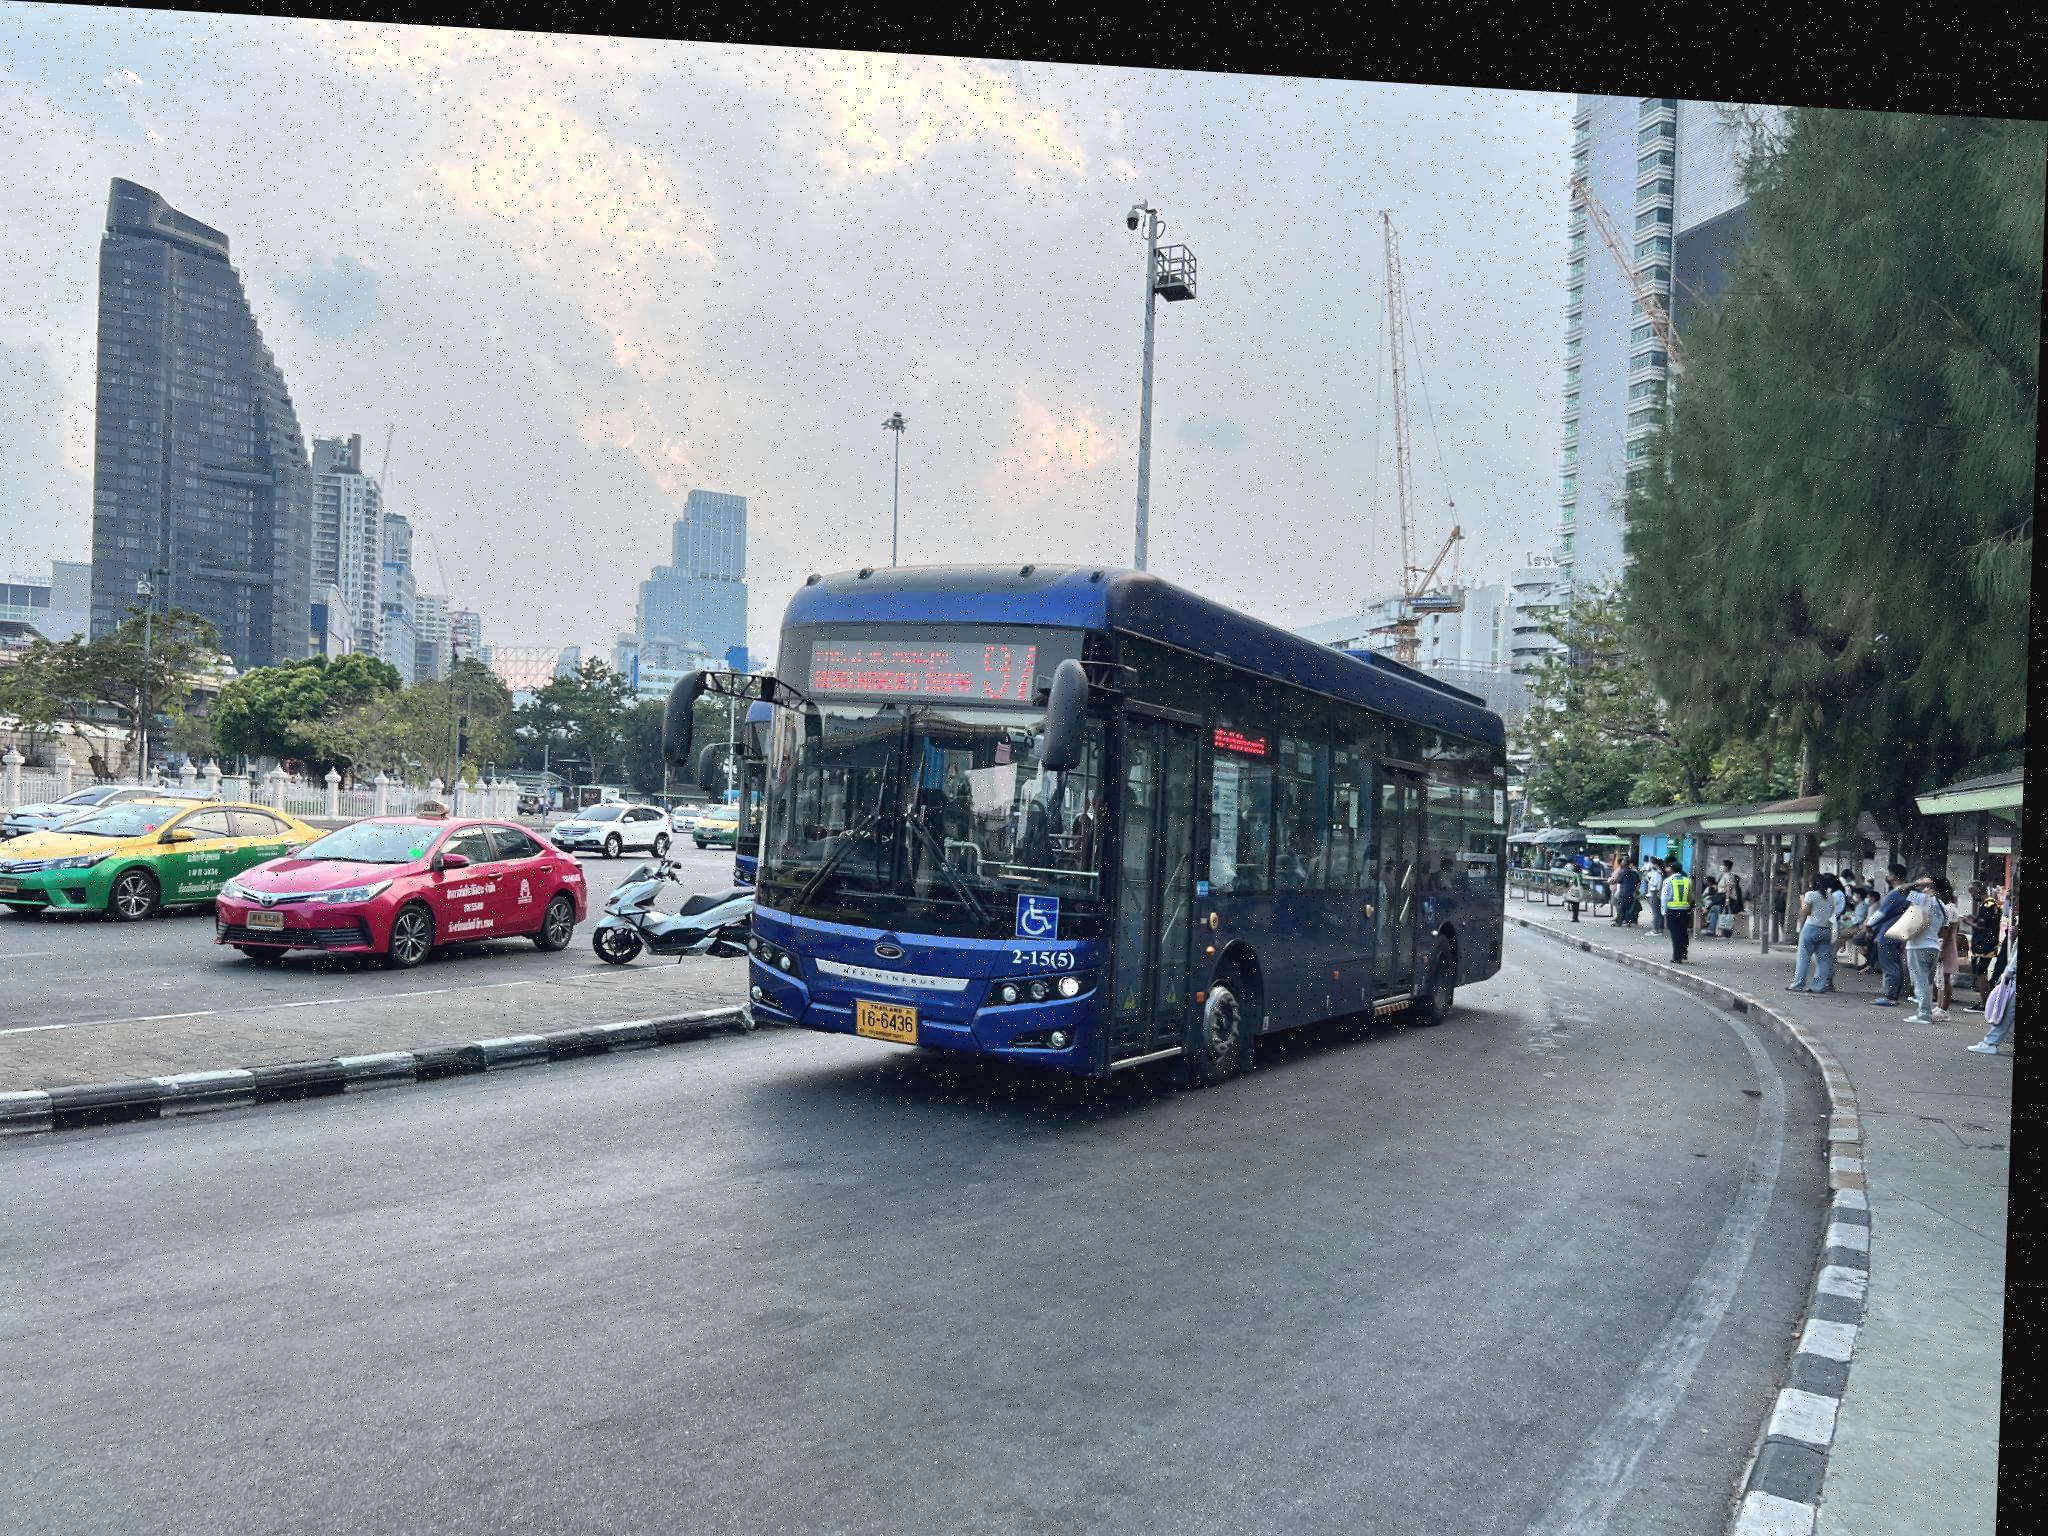Bus Line Number: (977, 623, 1053, 695)
Bus Side Number: (1011, 926, 1089, 958)
Destination Sign: (814, 626, 980, 692)
TSB-Bus: (753, 555, 1521, 1073)
